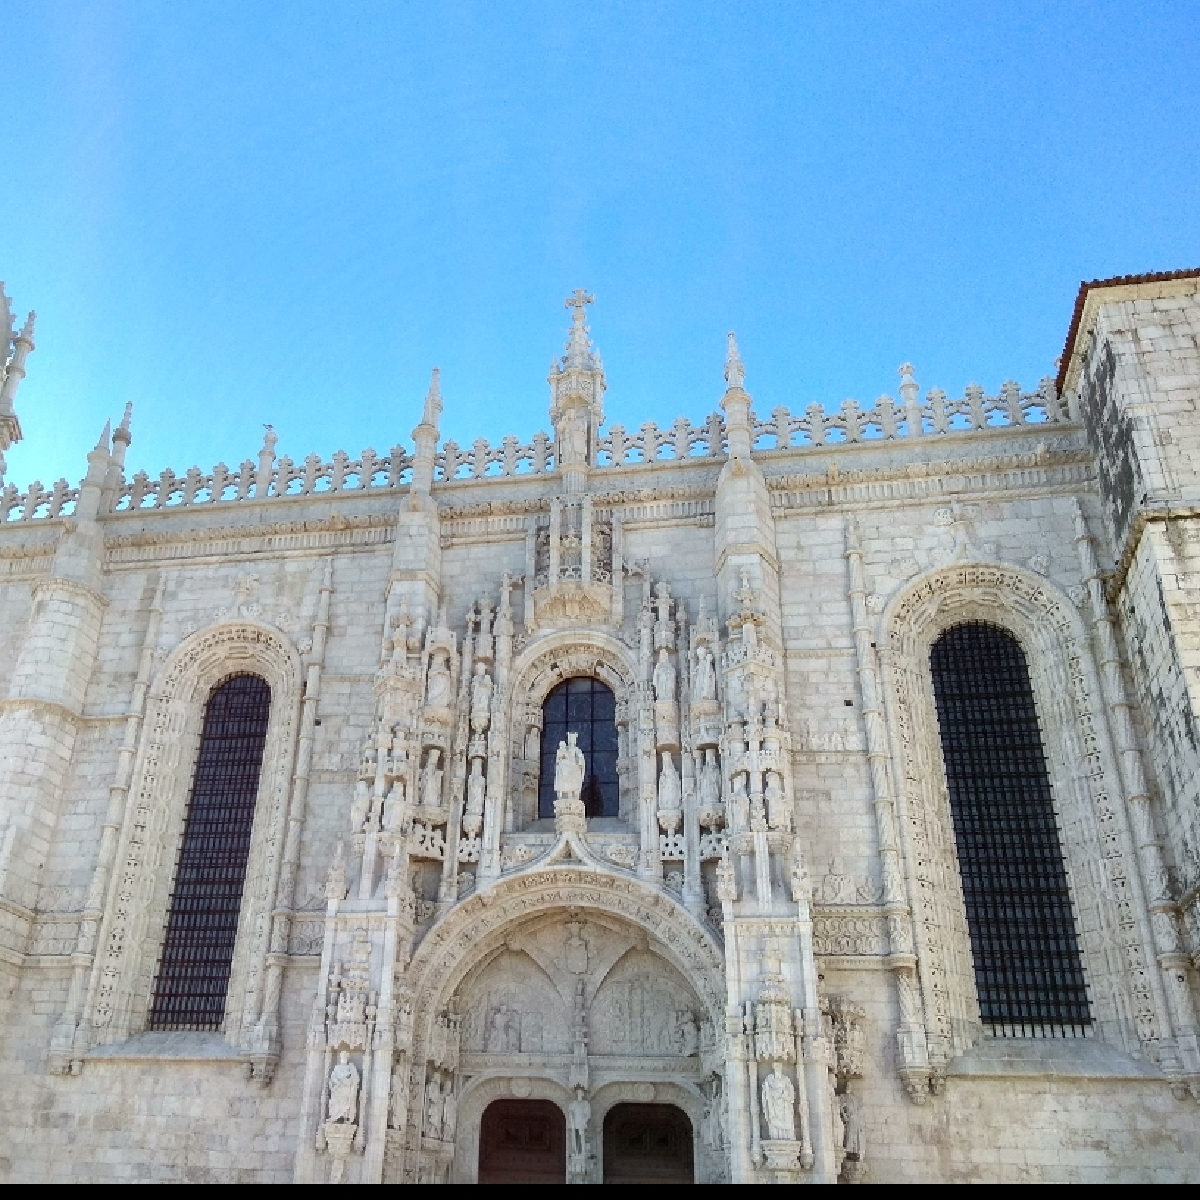arco-medio-punto: (414, 879, 721, 1074), (878, 557, 1102, 677), (152, 619, 307, 716), (522, 649, 631, 722)
